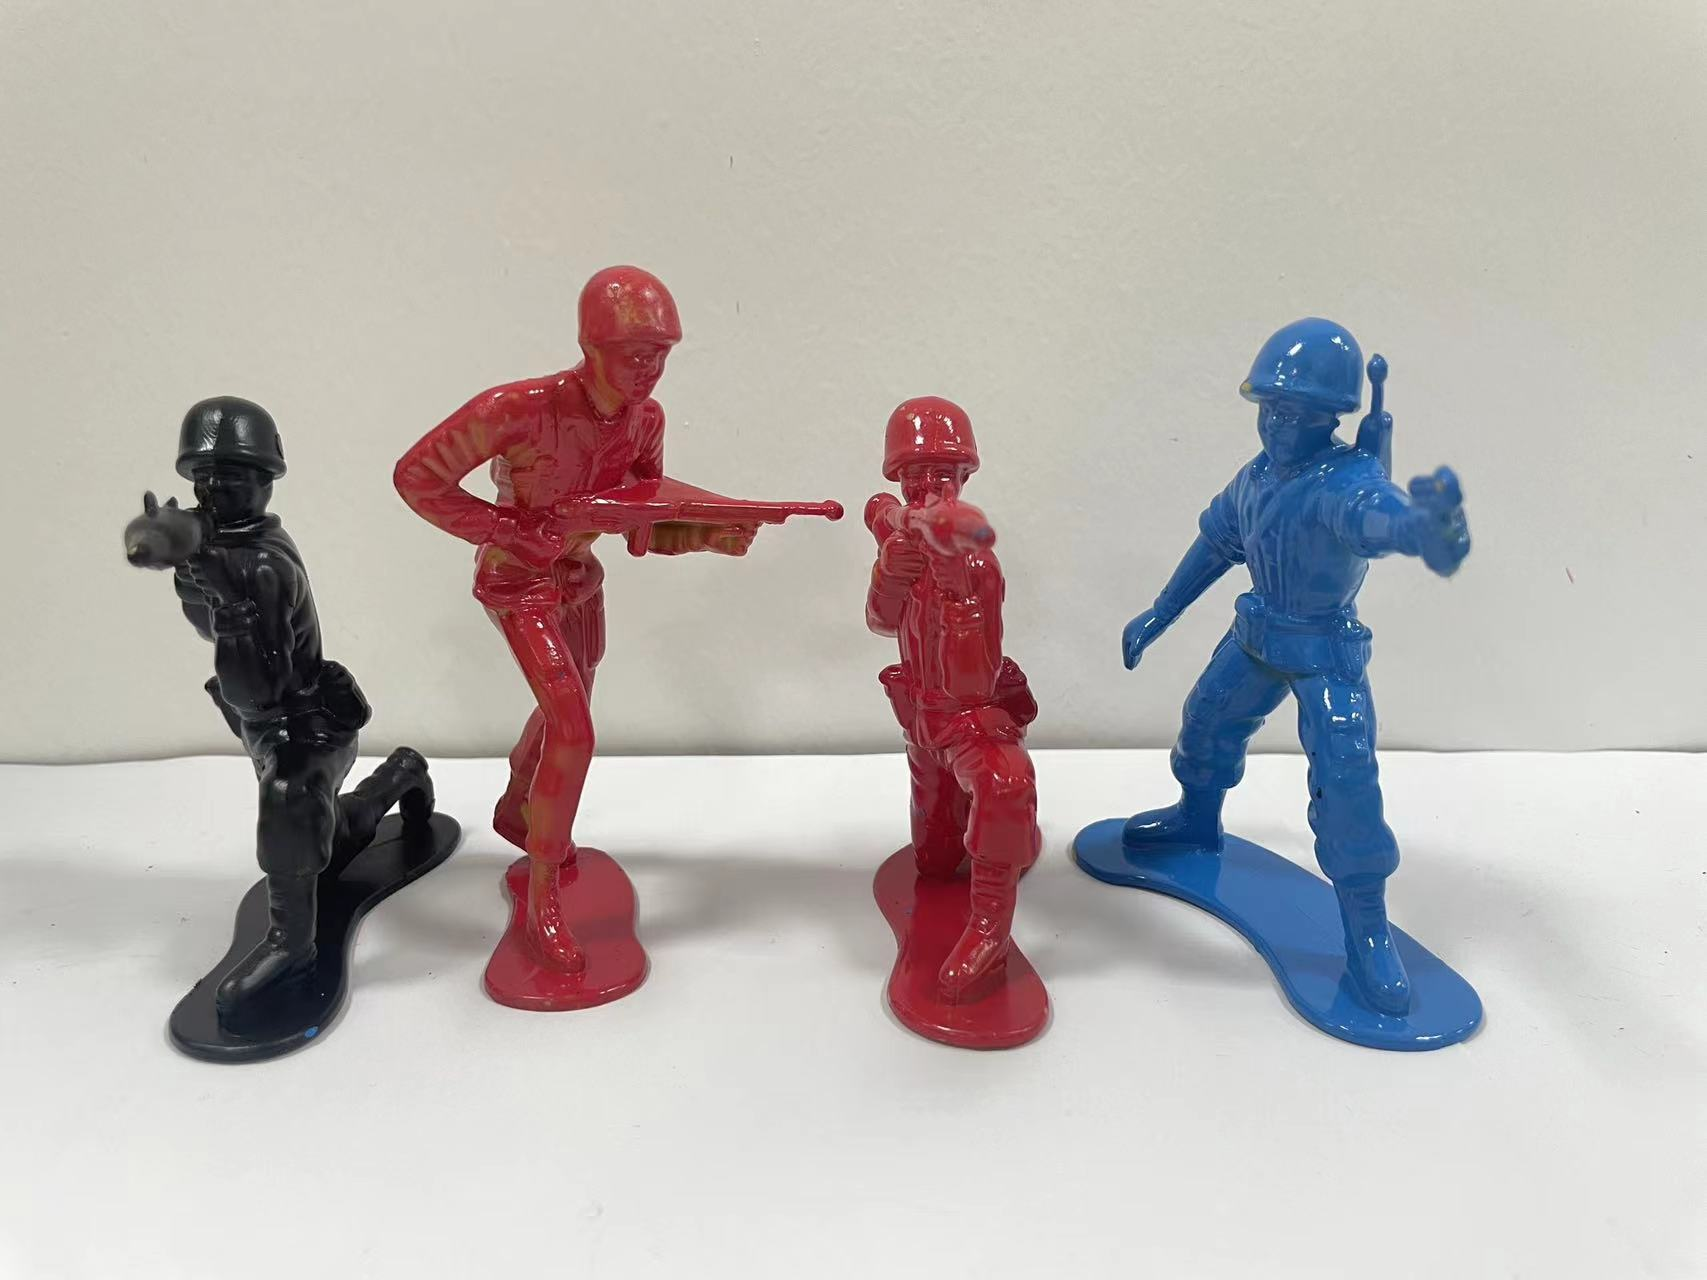black: (67, 358, 427, 1080)
blue: (1110, 262, 1599, 1131)
red: (386, 206, 851, 1096), (837, 364, 1086, 1068)
